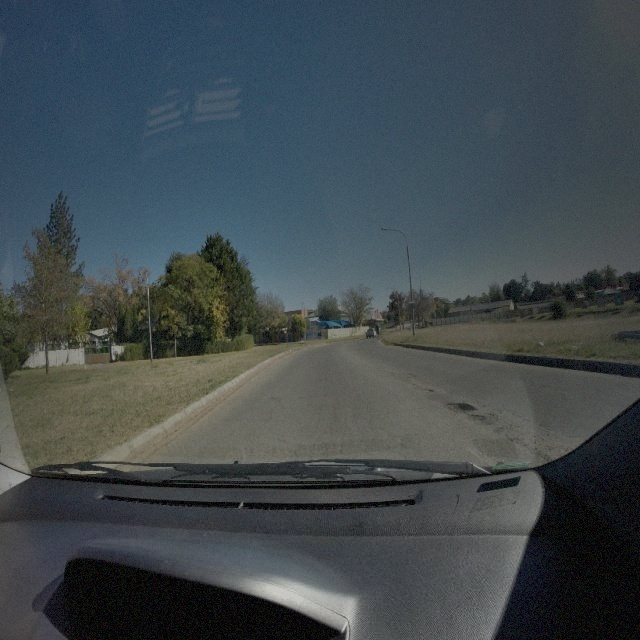pothole: (444, 398, 479, 413)
